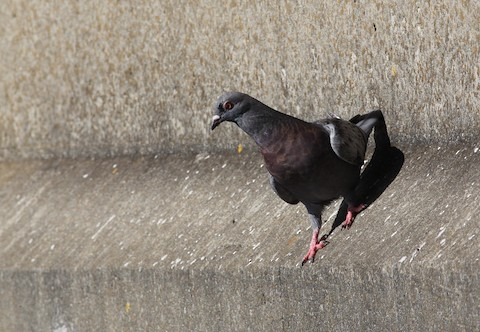pigeon: (202, 89, 397, 271)
